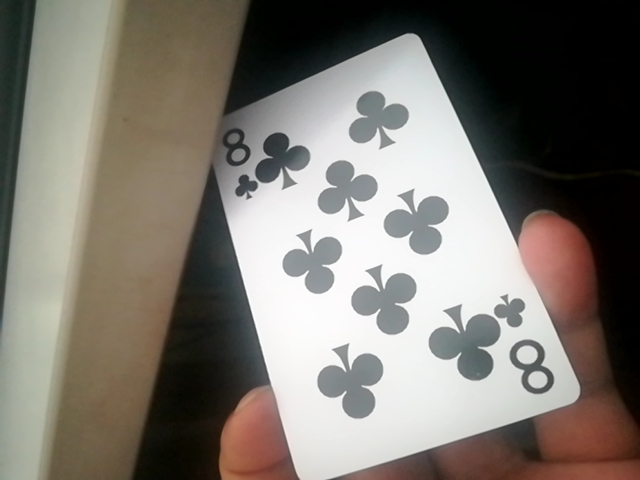mh 8: (214, 38, 580, 480)
